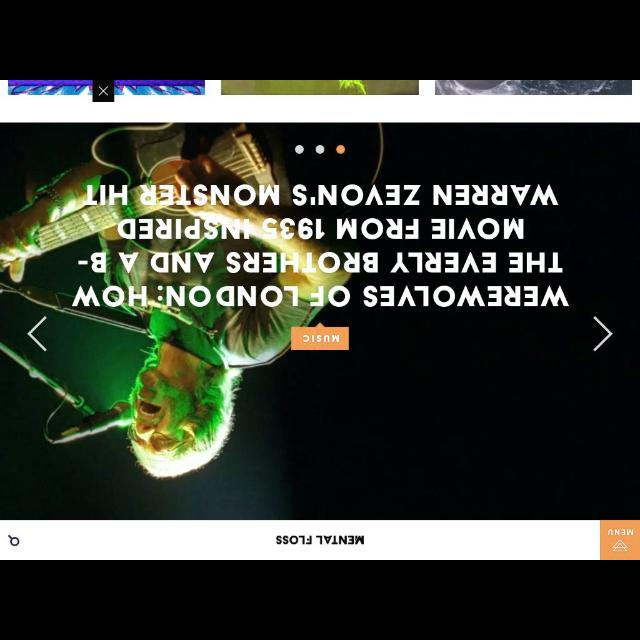backgroundimage: (2, 120, 638, 518)
icon: (586, 315, 618, 353), (27, 314, 51, 354), (4, 532, 23, 548), (610, 541, 628, 553)
pageindicator: (292, 144, 348, 158)
text: (68, 178, 572, 308), (271, 533, 369, 547), (302, 333, 340, 343), (606, 529, 636, 539)
toolbar: (1, 520, 639, 560)
